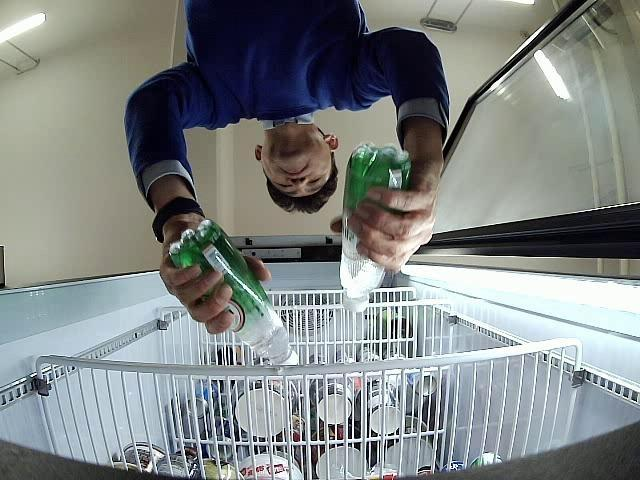18_trevi: (168, 221, 300, 368), (341, 142, 411, 311)
